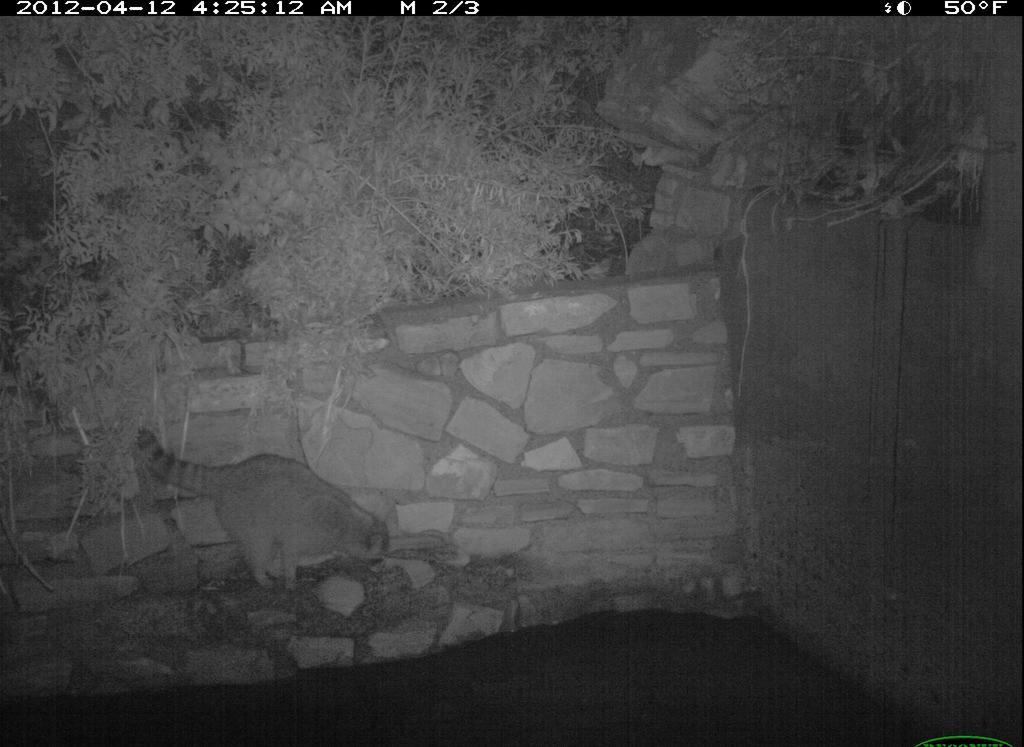raccoon: (132, 419, 397, 591)
